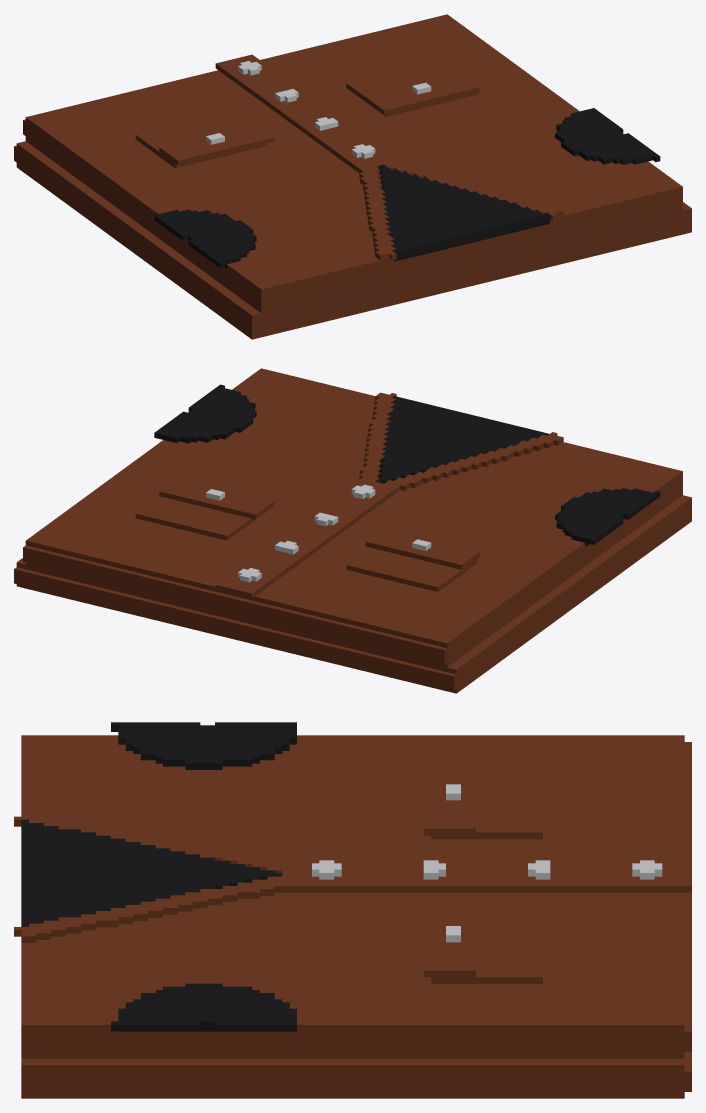
File: vest_leather.glb
3 views of the same model, one above another, from view 1: azimuth 30°, elevation 25°; view 2: azimuth 150°, elevation 25°; view 3: azimuth 270°, elevation 25° (orthographic). The views are drawn at different scales.
Parts seen in each view (by area): view 1: vest_leather:compound; view 2: vest_leather:compound; view 3: vest_leather:compound.
Part boxes in pixels (bbox=[...]): vest_leather:compound: bbox=[14, 14, 691, 339]; vest_leather:compound: bbox=[14, 368, 691, 693]; vest_leather:compound: bbox=[14, 722, 691, 1098].
Size of the model in its own units: 0.384 by 0.052 by 0.364.
